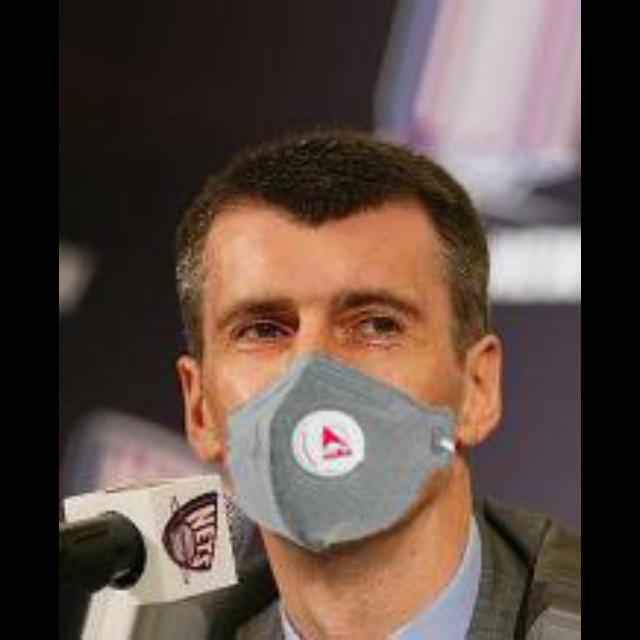suspicion: (154, 150, 518, 548)
